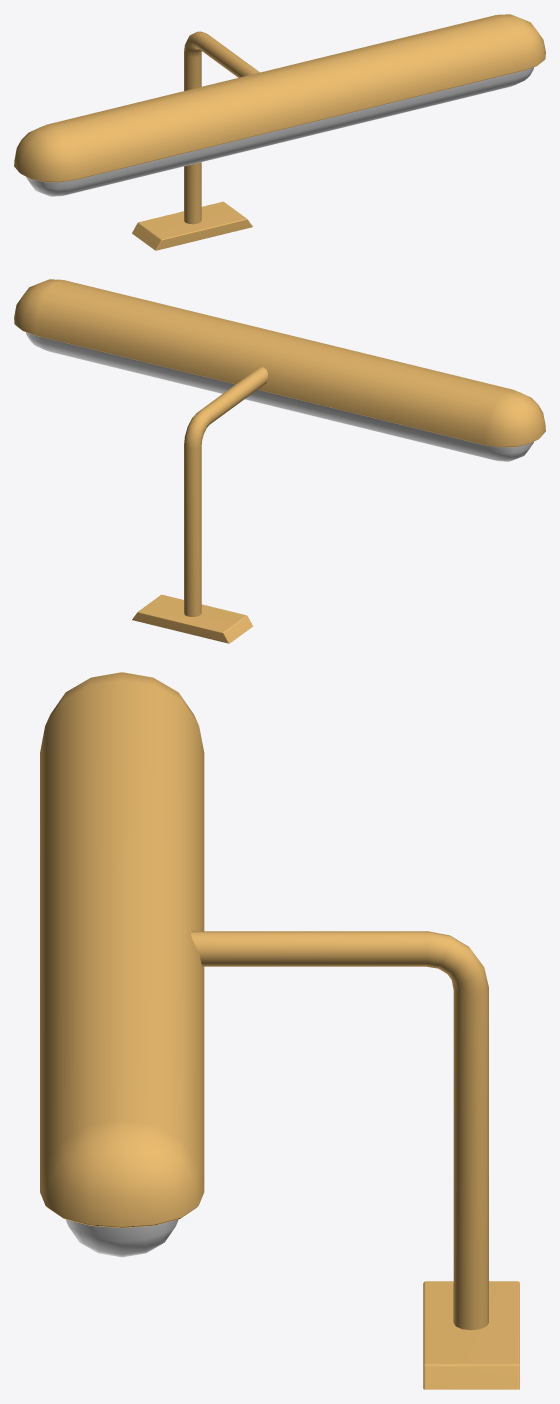
File: Lamp Aktenschrank.fbx
The picture shows the model from 3 angles, top to bottom: view 1: azimuth 30°, elevation 25°; view 2: azimuth 150°, elevation 25°; view 3: azimuth 270°, elevation 25°; orthographic projection. The views are drawn at different scales.
Visible parts, largest first — view 1: Cube.002; view 2: Cube.002; view 3: Cube.002.
Boxes of the visible parts, left/top/right/bottom form: Cube.002: left=14, top=14, right=545, bottom=250; Cube.002: left=14, top=279, right=545, bottom=643; Cube.002: left=40, top=672, right=519, bottom=1389.
Bounding box in the file's own units: 73.98 × 30 × 29.55.
